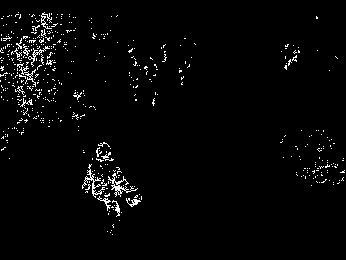person: (80, 141, 147, 241)
